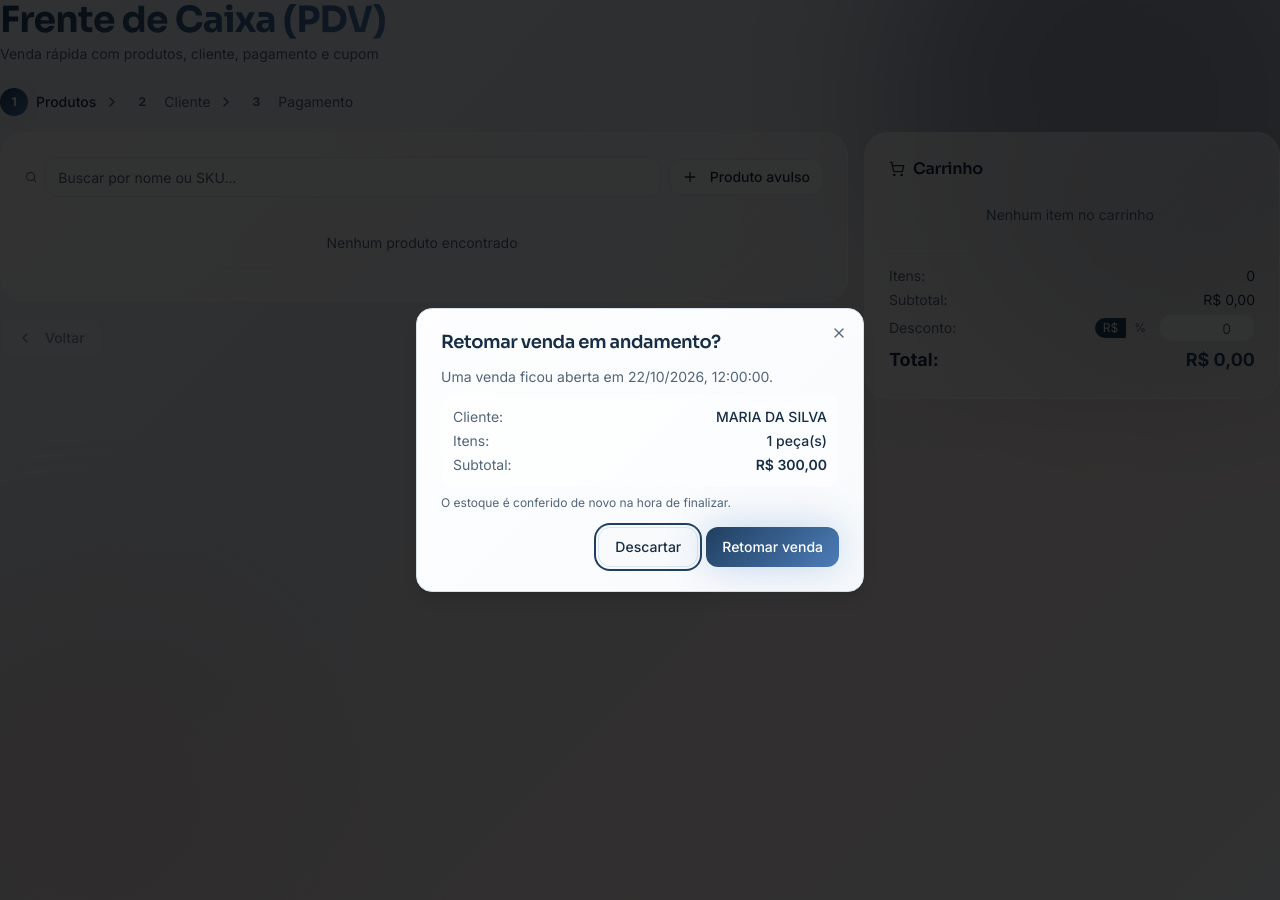
Scenario: PDV — acordo com a dívida antiga › voltar para a carteira depois de PIX faz a pergunta de novo
Click the button "Retomar venda" at [773, 547], box [706, 527, 839, 567]
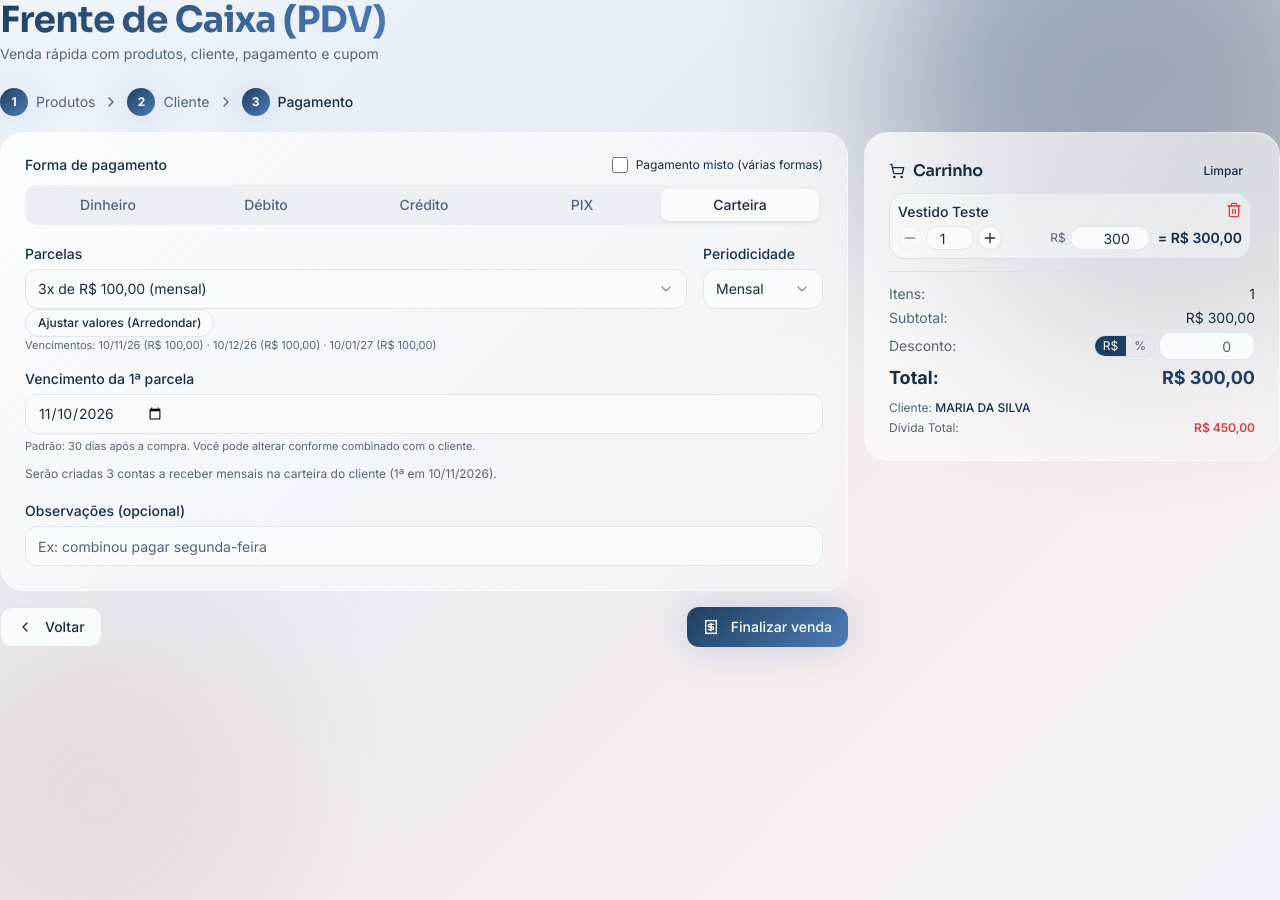
Click the button "Finalizar venda" at [767, 627], box [687, 607, 848, 647]
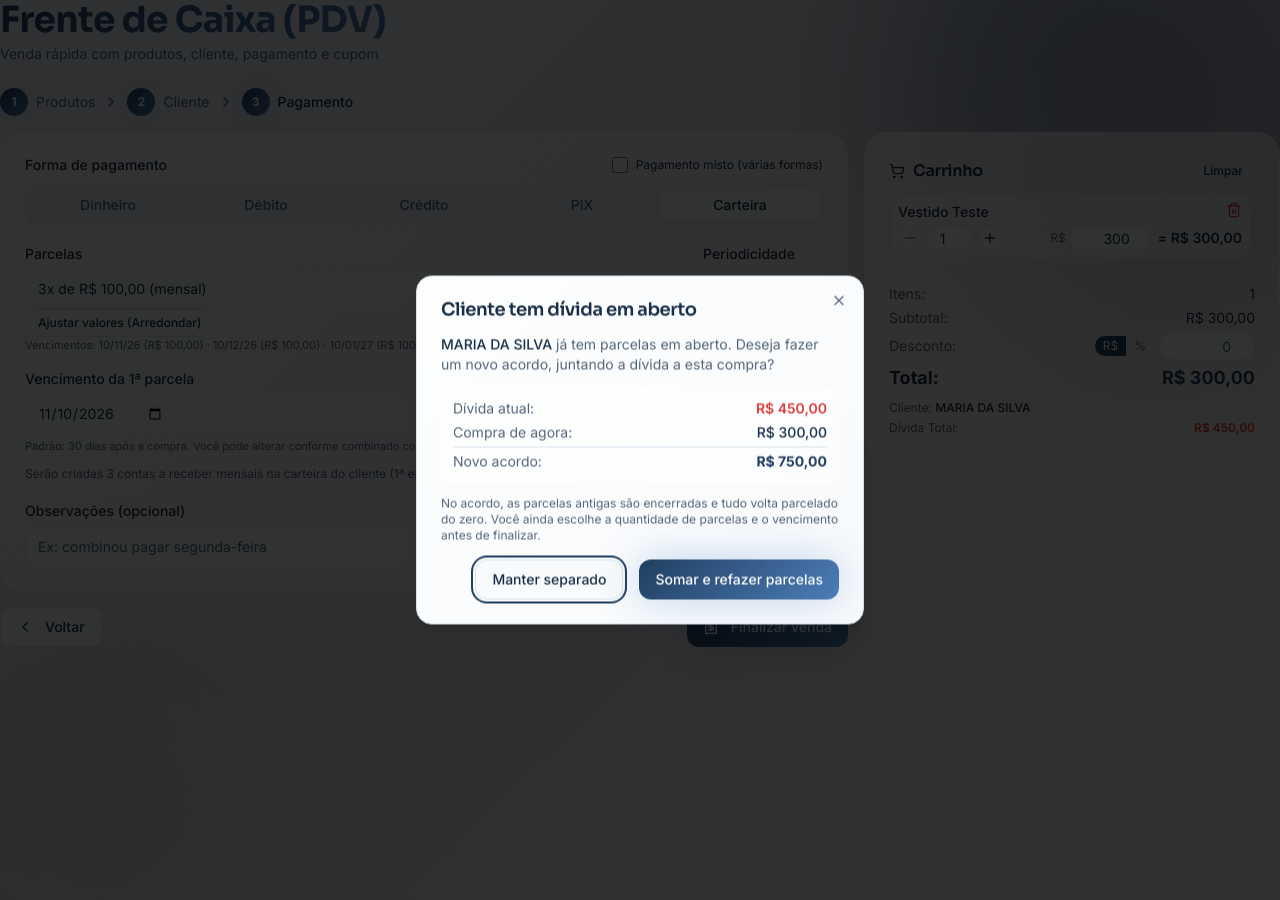
Click the button "Somar e refazer parcelas" at [739, 580], box [639, 560, 839, 600]
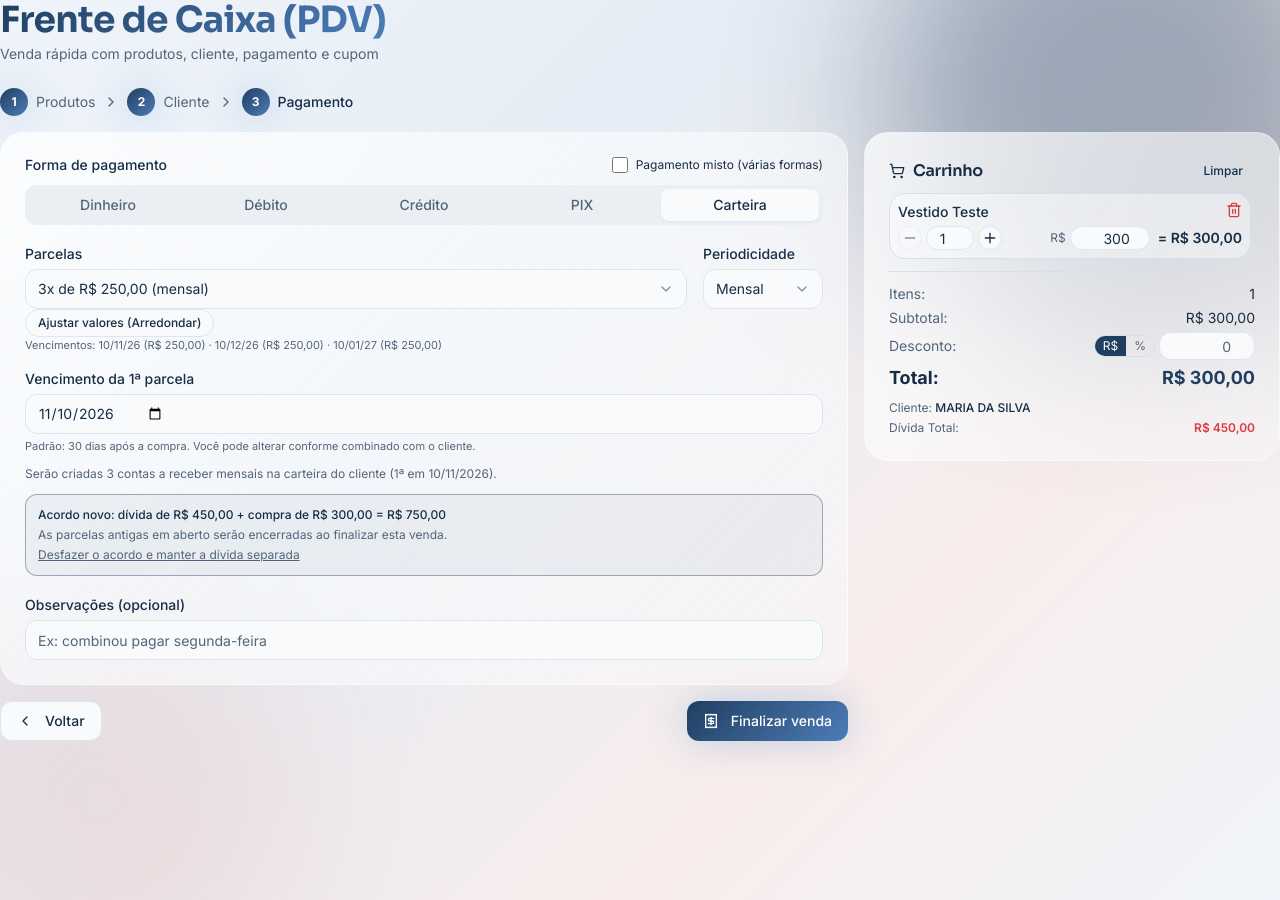
Expected: the heading "Cliente tem dívida em aberto" is gone
Press the mouse on the tab "PIX" at [582, 205], box [503, 189, 661, 221]
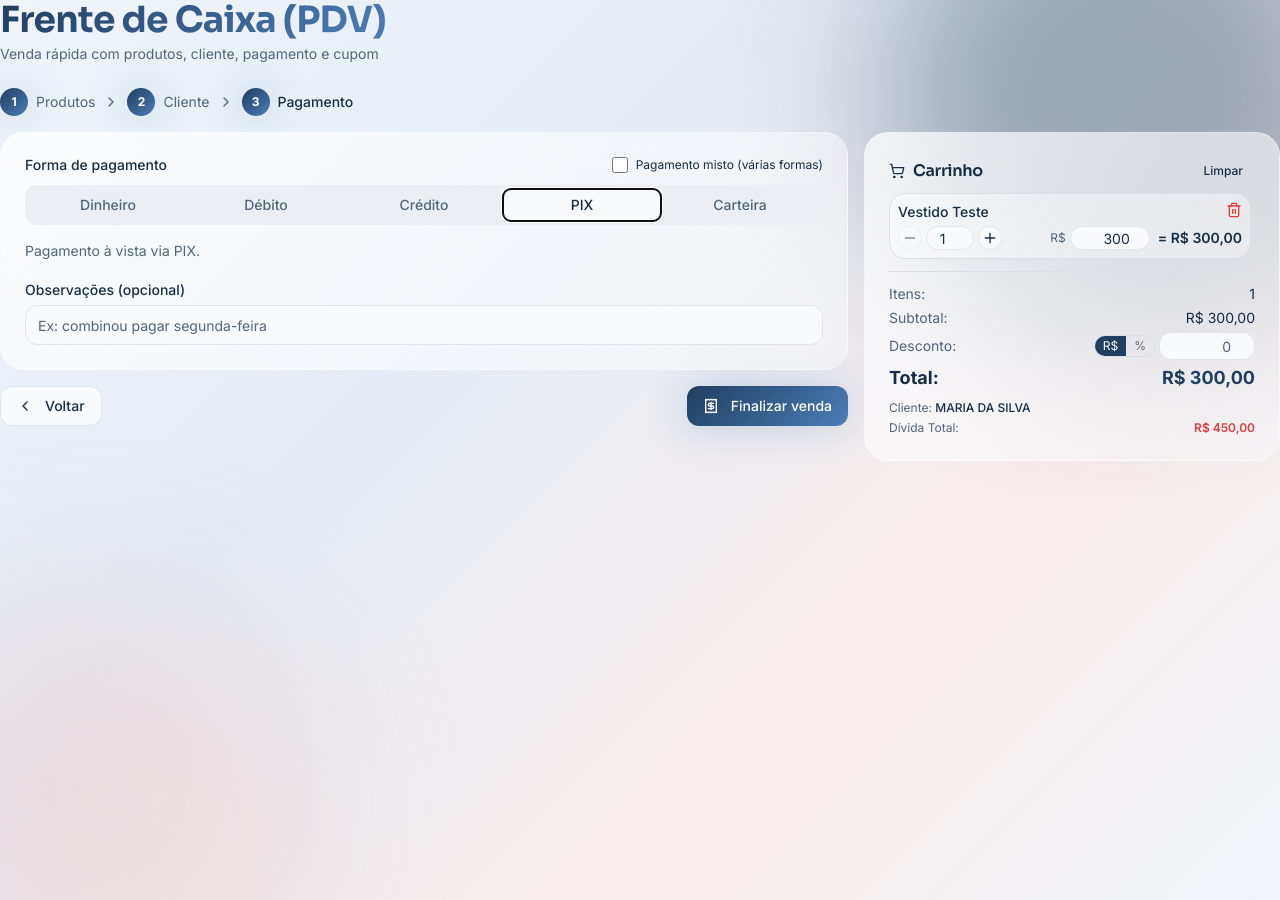
Press the mouse on the tab "Carteira" at [740, 205], box [661, 189, 819, 221]
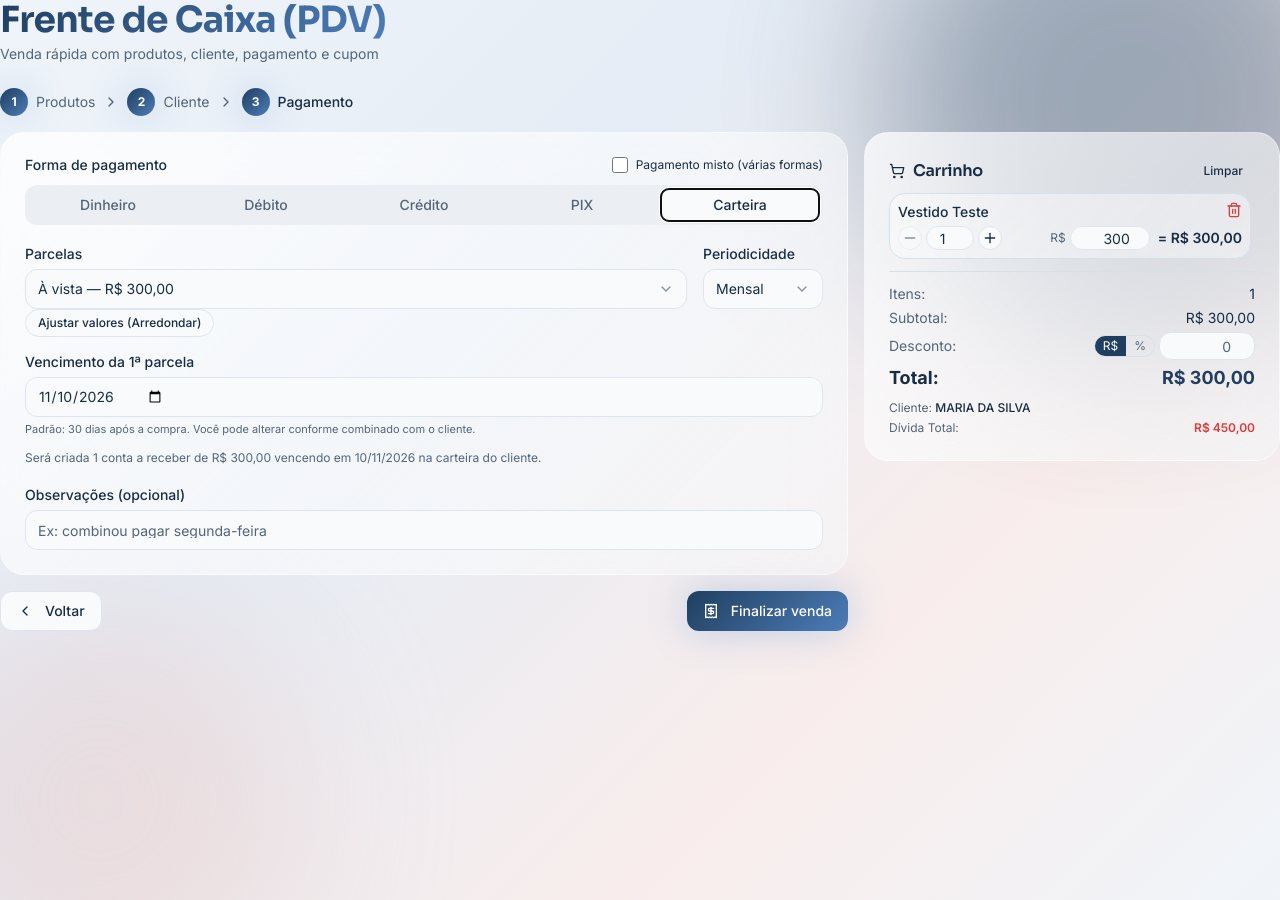
Click the button "Finalizar venda" at [767, 610], box [687, 590, 848, 630]
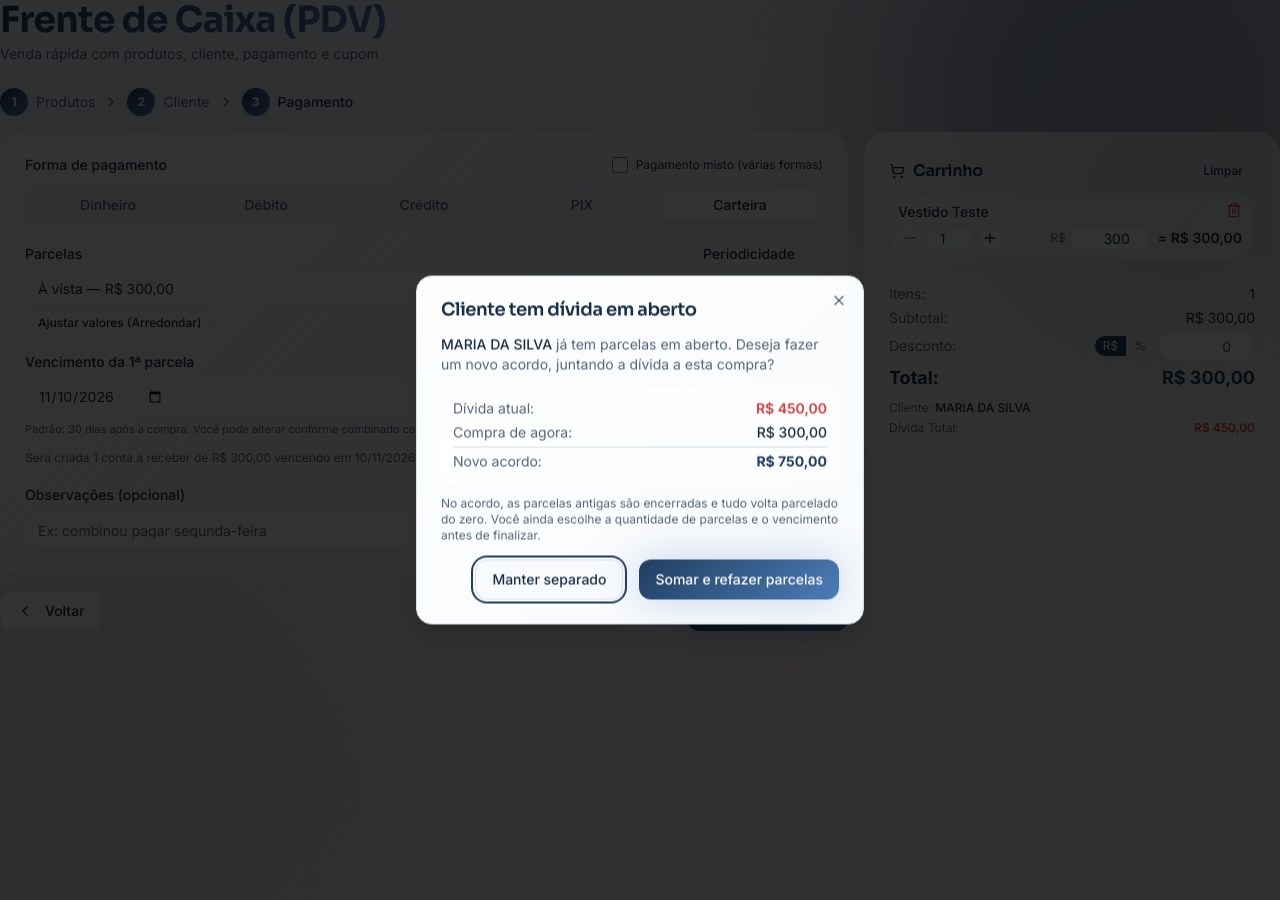
Expected: the heading "Cliente tem dívida em aberto" is shown, [441, 298, 696, 320]
